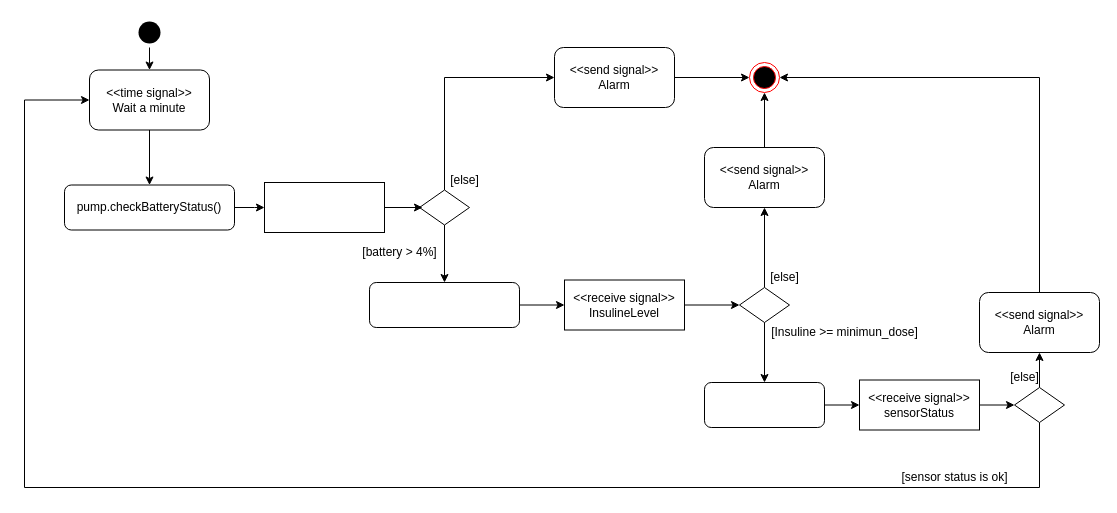
Image size: 1117x513. Some labels were removed from this diagram. The box of each missing label's shape, as (x1, y1, x2, y2) in pixels:
<<receive signal>> BatteryLevel: (264, 182, 384, 232)
checkInsulineQuantity(): (368, 282, 520, 328)
sensor.checkStatus(): (704, 382, 824, 428)
